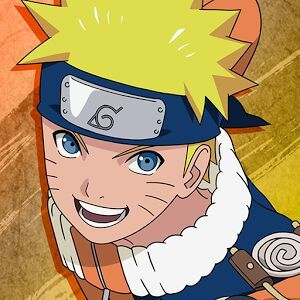naruto: (36, 59, 225, 245)
